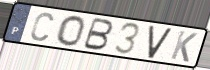3: (113, 21, 142, 56)
B: (81, 16, 115, 52)
C: (29, 11, 55, 43)
K: (169, 29, 199, 64)
O: (55, 15, 86, 47)
V: (147, 25, 174, 60)
